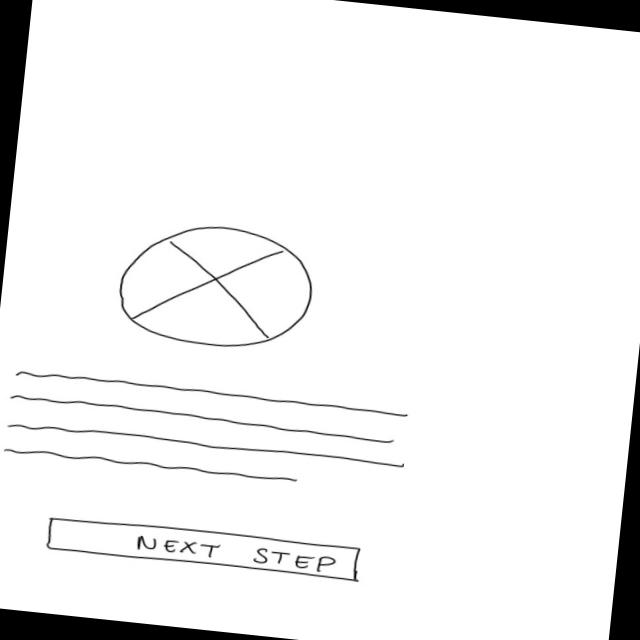button: (41, 514, 366, 586)
image: (112, 216, 322, 360)
textbox: (2, 368, 415, 501)
